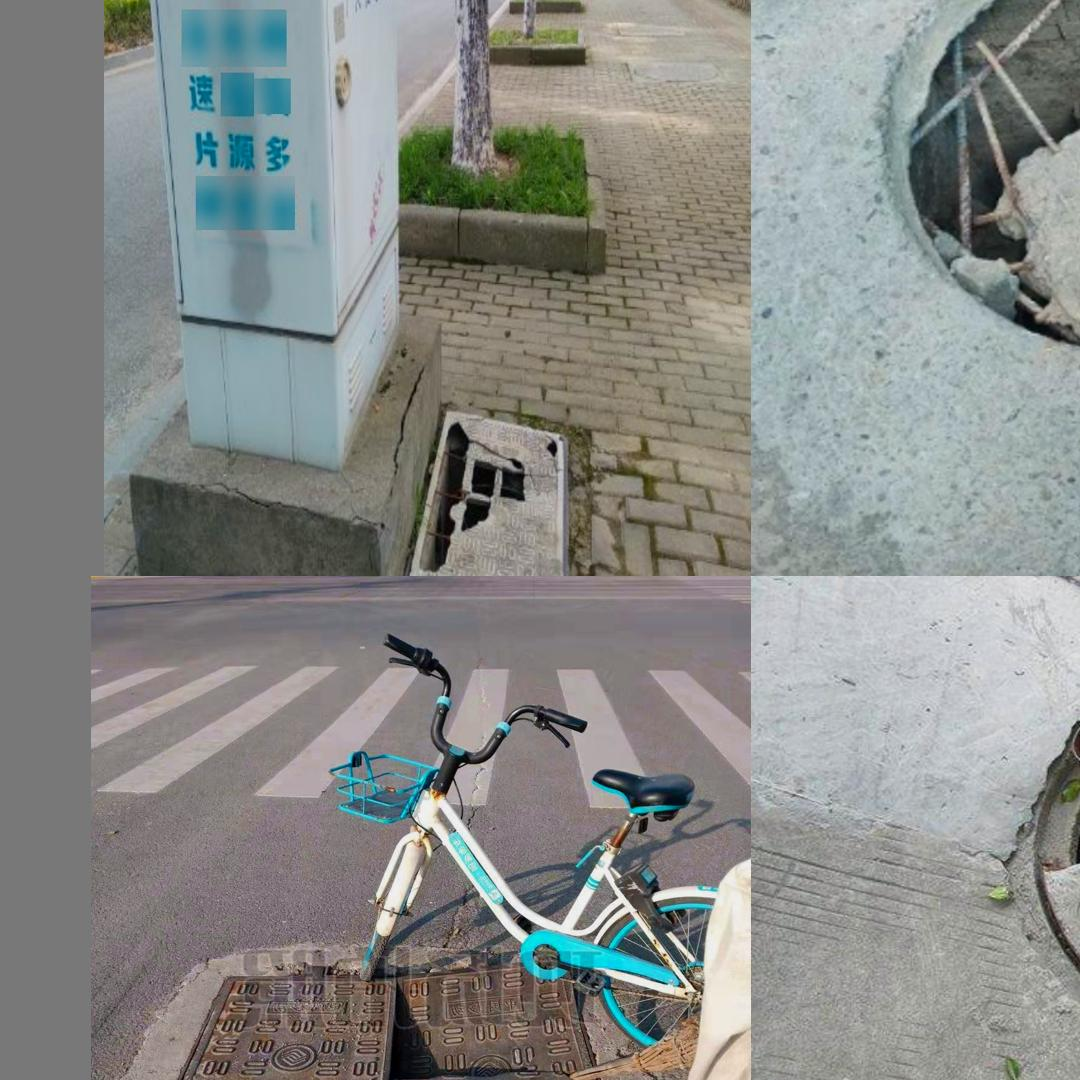broke: (881, 0, 1080, 354), (134, 957, 631, 1080), (999, 650, 1080, 1064), (401, 405, 575, 576)
